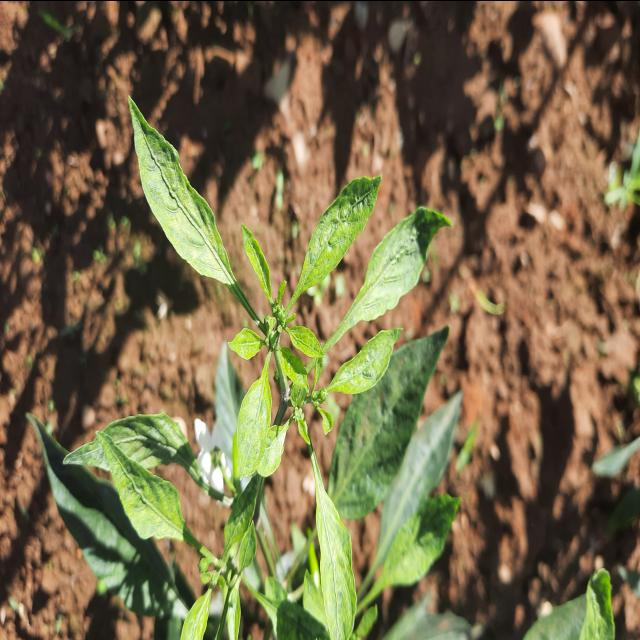thrips: (120, 85, 232, 288), (98, 407, 192, 569), (288, 142, 382, 298)
